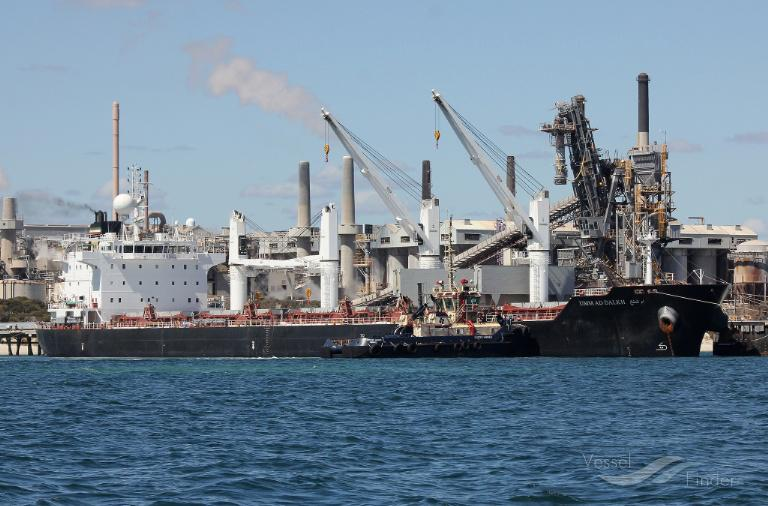OCR: (576, 296, 646, 314)
